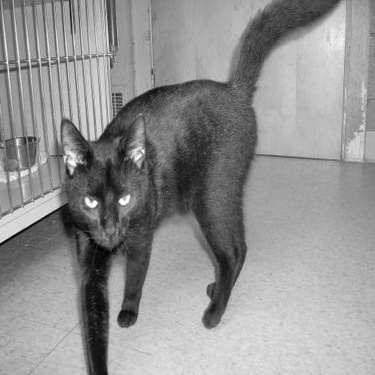cat: (39, 1, 350, 373)
